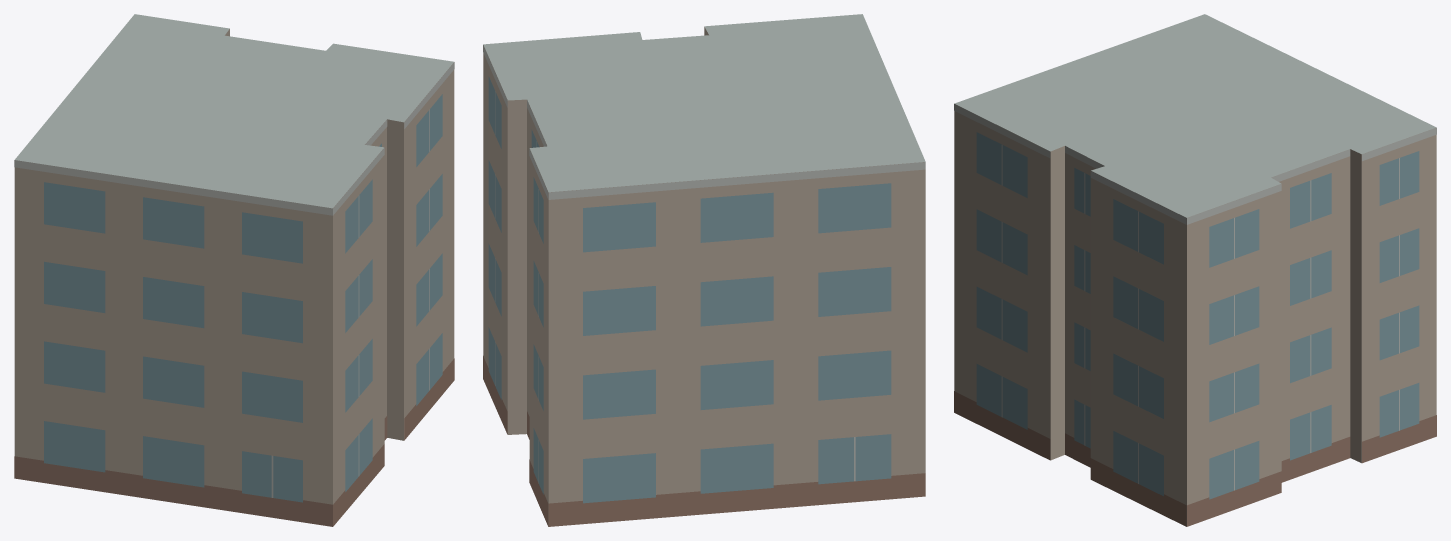
Rendered from survey-upis-32640427.glb.
3 renders of one model, left to right at view 1: azimuth 30°, elevation 25°; view 2: azimuth 150°, elevation 25°; view 3: azimuth 270°, elevation 25°, orthographic. The views are drawn at different scales.
Visible parts, largest first — view 1: survey-upis-32640427.tmp; view 2: survey-upis-32640427.tmp; view 3: survey-upis-32640427.tmp.
Part boxes in pixels (x1,y1,x2,y2): survey-upis-32640427.tmp: [14, 14, 454, 526]; survey-upis-32640427.tmp: [483, 14, 925, 526]; survey-upis-32640427.tmp: [954, 14, 1436, 526].
Bounding box in the file's own units: 15.01 × 10.6 × 15.01.
